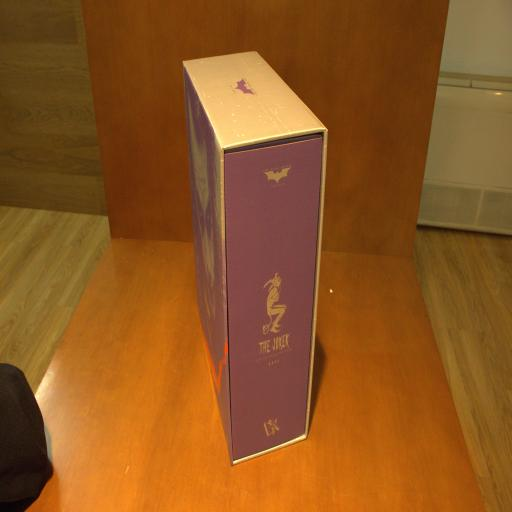Joker: (182, 47, 325, 468)
